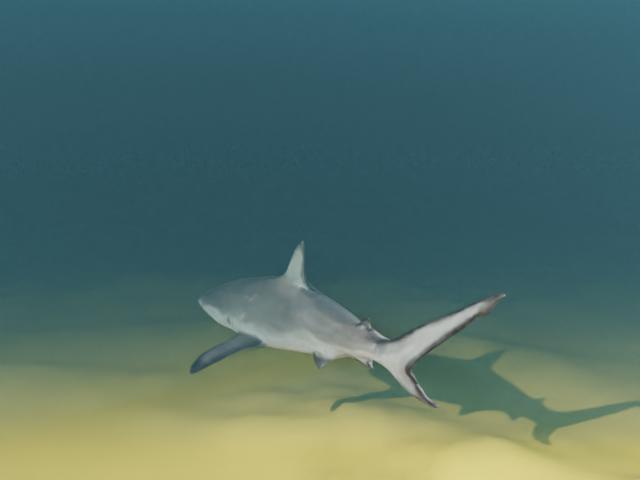Carribean Shark.001: (189, 240, 505, 408)
